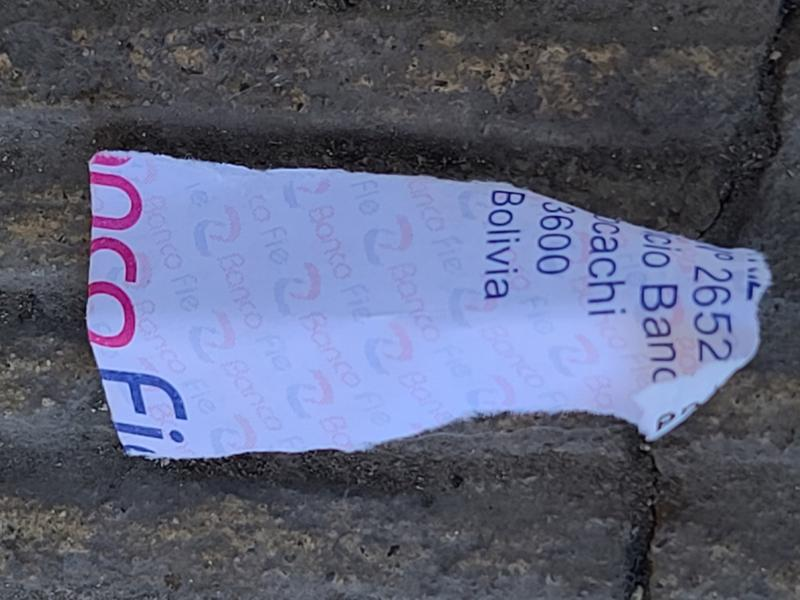papel: (84, 151, 772, 463)
